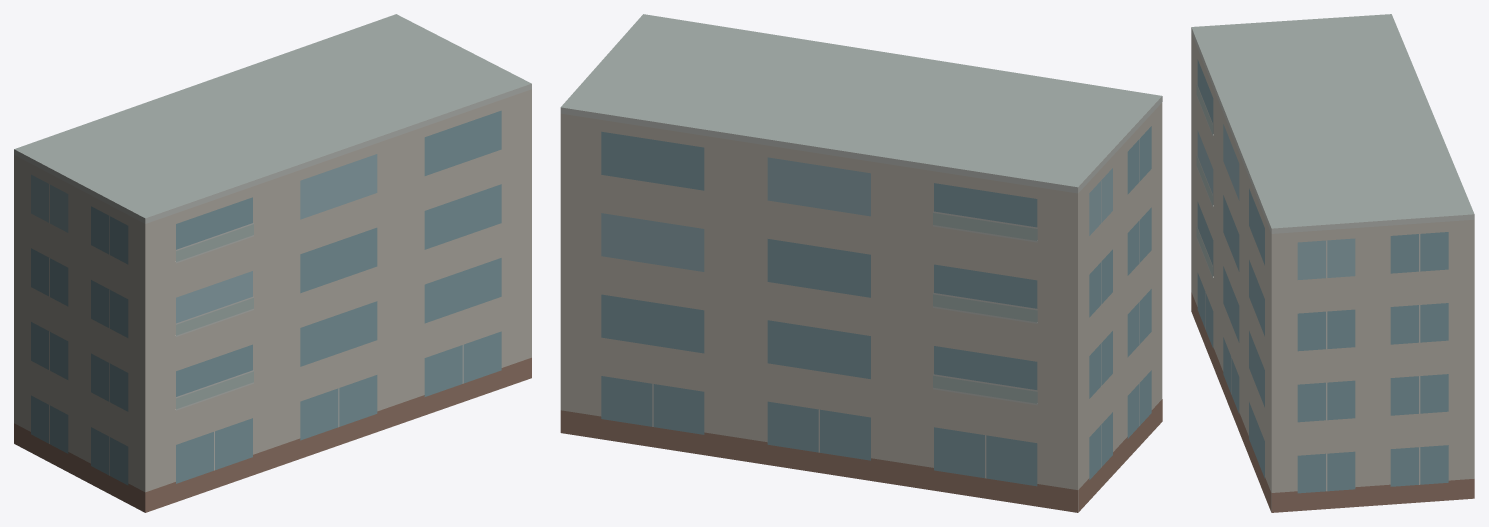
Rendered from survey-upis-32527072.glb.
The picture shows the model from 3 angles, left to right: view 1: azimuth 30°, elevation 25°; view 2: azimuth 150°, elevation 25°; view 3: azimuth 270°, elevation 25°; orthographic projection. The views are drawn at different scales.
Parts seen in each view (by area): view 1: survey-upis-32527072.tmp; view 2: survey-upis-32527072.tmp; view 3: survey-upis-32527072.tmp.
Part boxes in pixels (<box>): survey-upis-32527072.tmp: <box>14,14,531,512</box>; survey-upis-32527072.tmp: <box>560,14,1162,512</box>; survey-upis-32527072.tmp: <box>1191,14,1474,512</box>.
Bounding box in the file's own units: 20.73 × 12.8 × 11.57.
